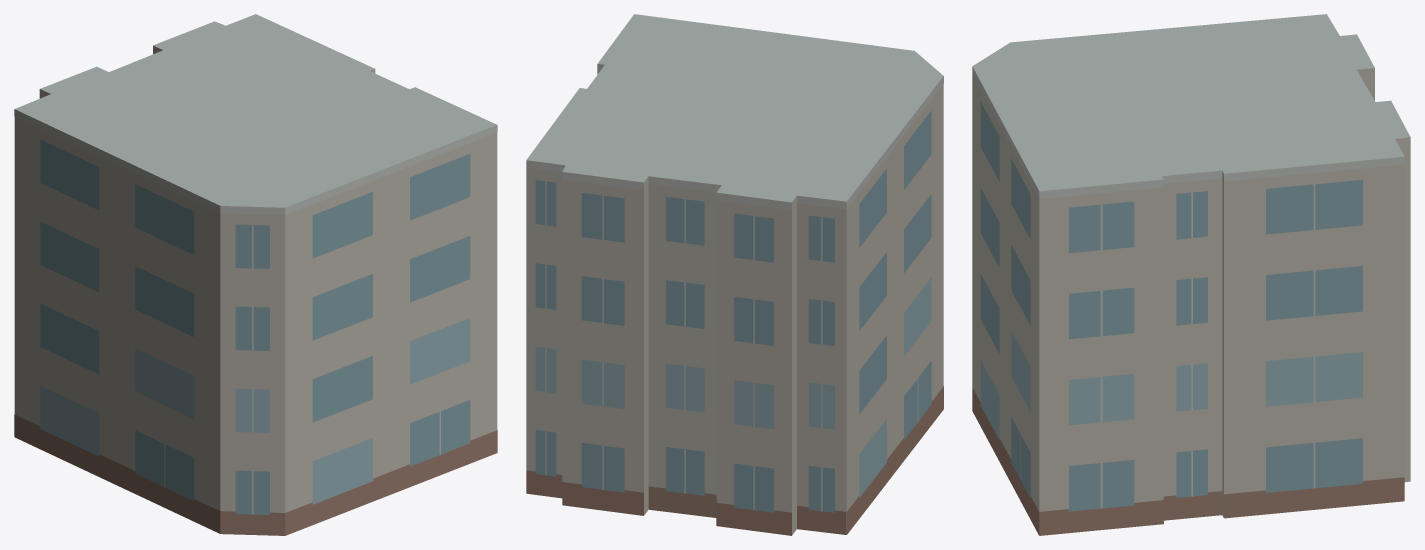
Rendered from survey-upis-32736568.glb.
3 views of the same model, side by side, from view 1: azimuth 30°, elevation 25°; view 2: azimuth 150°, elevation 25°; view 3: azimuth 270°, elevation 25° (orthographic). The views are drawn at different scales.
Visible parts, largest first — view 1: survey-upis-32736568.tmp; view 2: survey-upis-32736568.tmp; view 3: survey-upis-32736568.tmp.
Part boxes in pixels (x1,y1,x2,y2): survey-upis-32736568.tmp: (14,14,497,535); survey-upis-32736568.tmp: (526,14,943,535); survey-upis-32736568.tmp: (972,14,1410,535).
Bounding box in the file's own units: 11.81 × 10.69 × 12.33.
